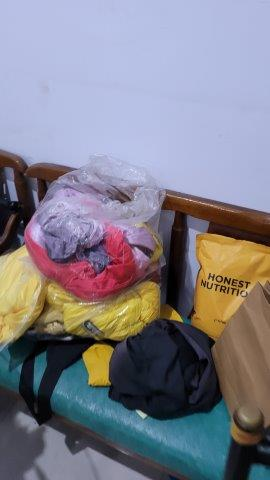plastik: (29, 152, 162, 286)
